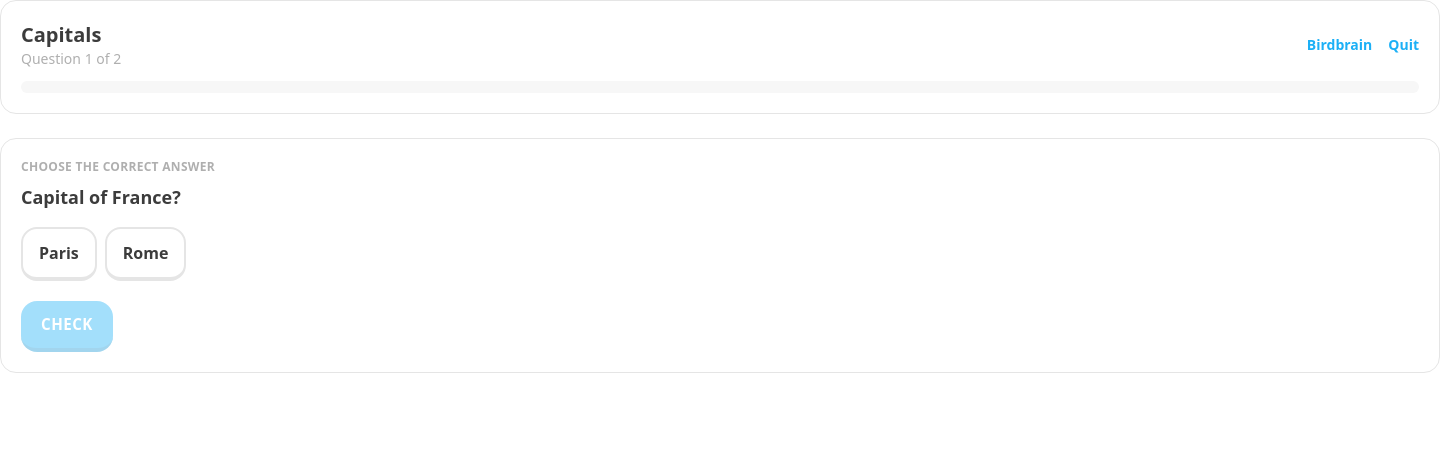
Scenario: LessonPage › checks an answer, shows feedback, and finishes with the server results
Expected: the text "Capital of France?" is shown, [21,185,181,209]
Expected: the button "Check" is disabled, [21,301,113,352]
Click the button "Paris" at (59, 254), box [21,227,97,281]
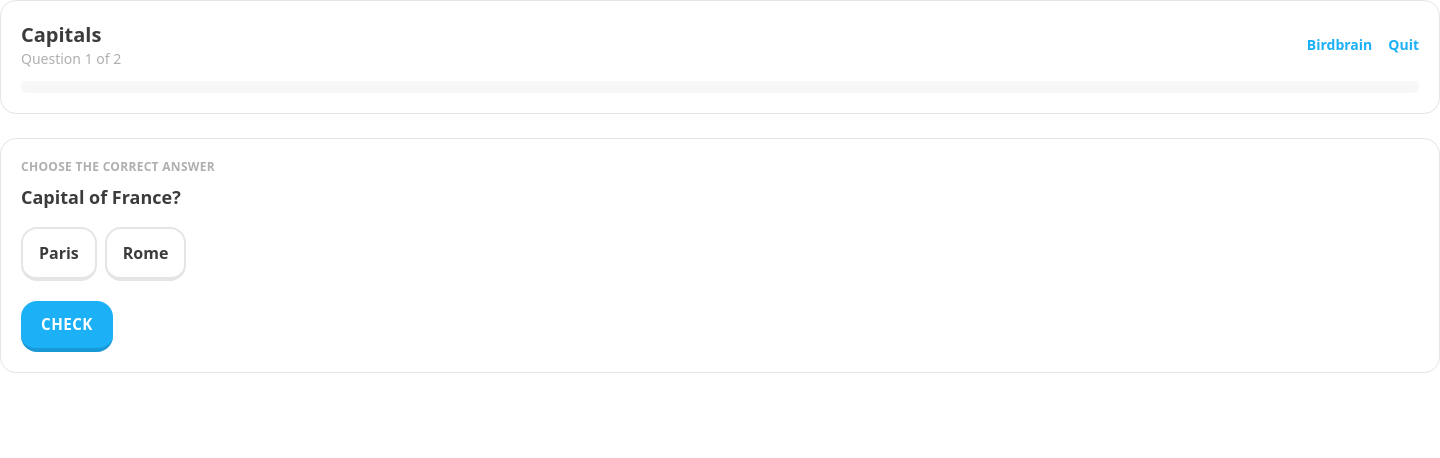
Click the button "Check" at (67, 326), box [21,301,113,352]
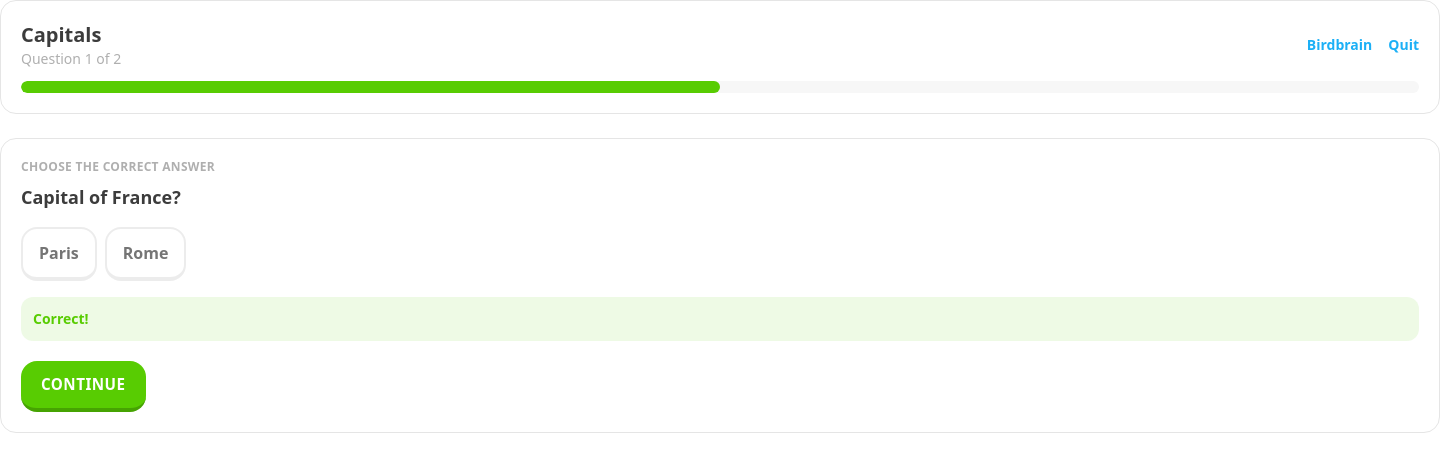
Expected: the text "Correct!" is shown, [21,297,1419,341]
Click the button "Continue" at (83, 386), box [21,361,146,412]
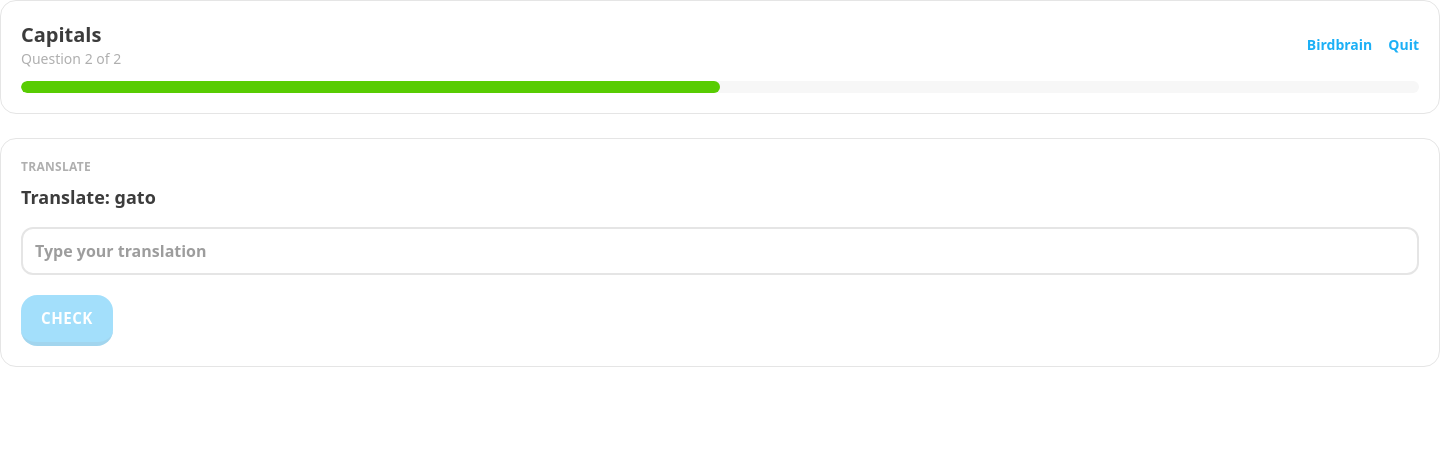
Expected: the text "Translate: gato" is shown, [21,185,156,209]
Type "cat" into the field with placeholder "Type your translation" at (720, 251), box [21,227,1419,275]
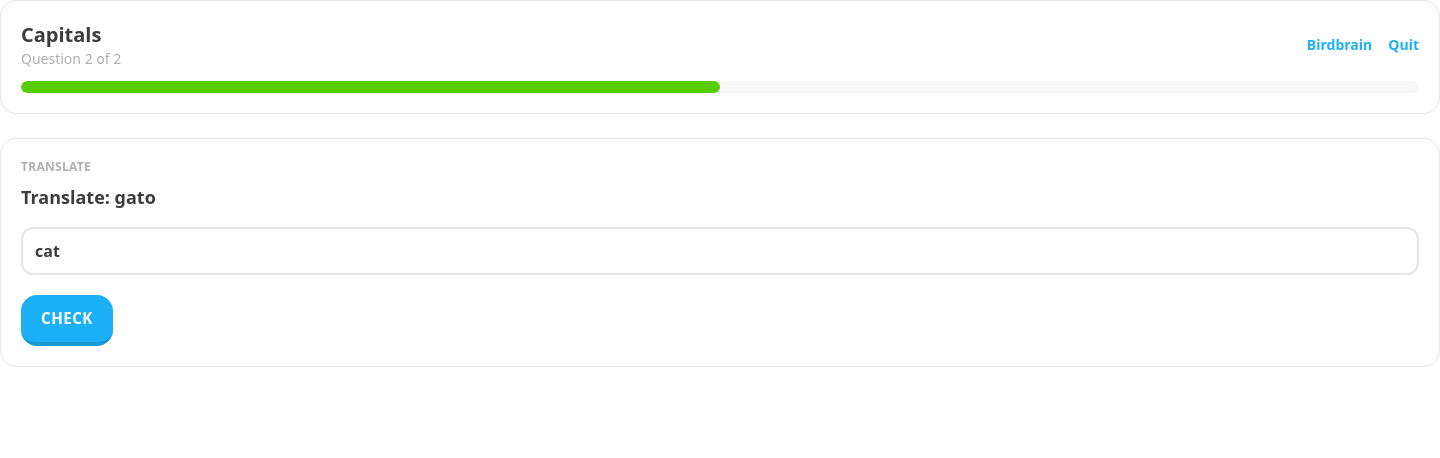
Click the button "Check" at (67, 320), box [21,295,113,346]
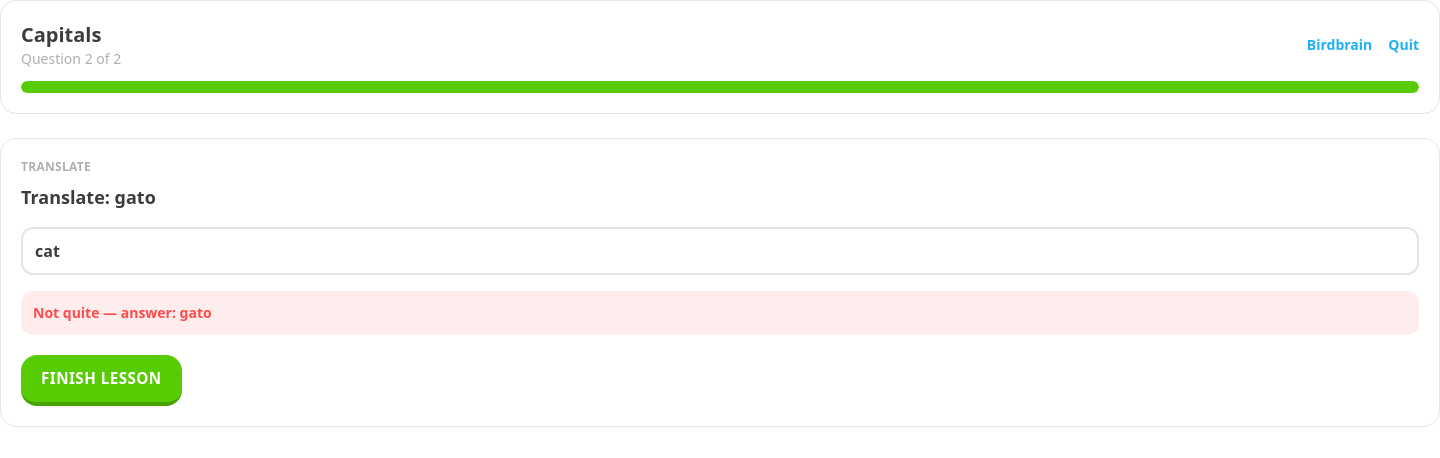
Expected: the text "Not quite — answer: gato" is shown, [21,291,1419,335]
Click the button "Finish lesson" at (101, 380), box [21,355,182,406]
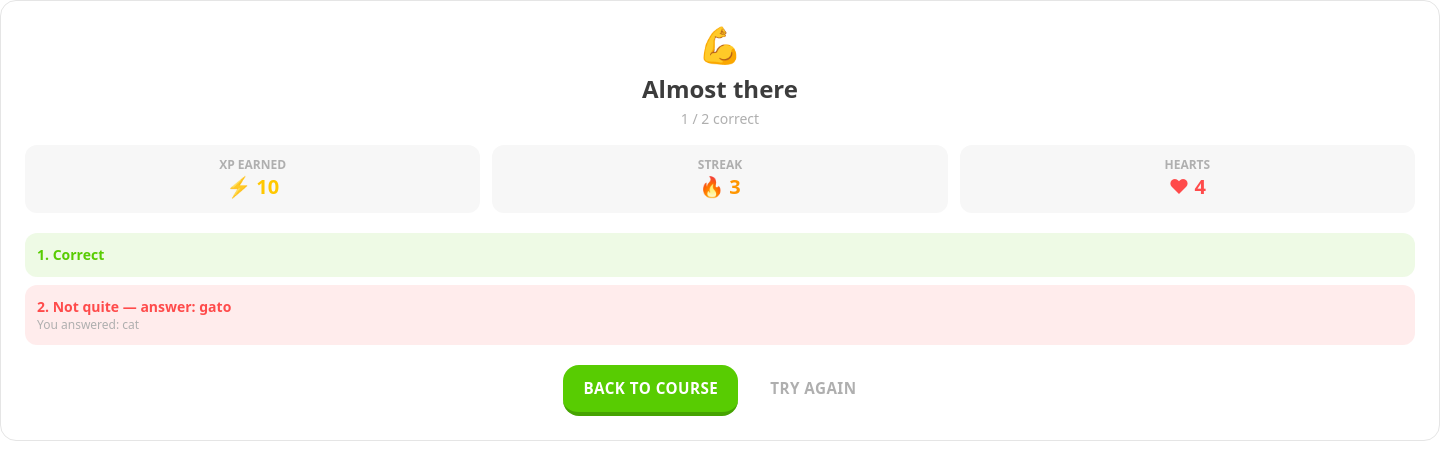
Expected: the text "1 / 2 correct" is shown, [681,109,759,128]
Expected: the text "⚡ 10" is shown, [226,173,279,200]
Expected: the text "You answered: cat" is shown, [37,316,139,333]
